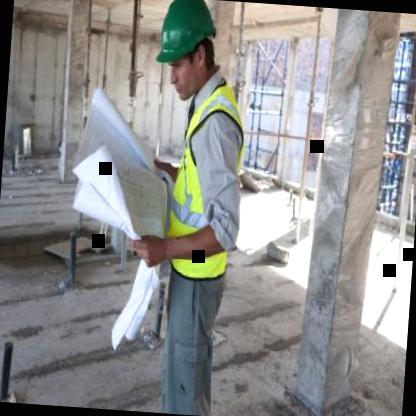helmet: (149, 0, 226, 108)
